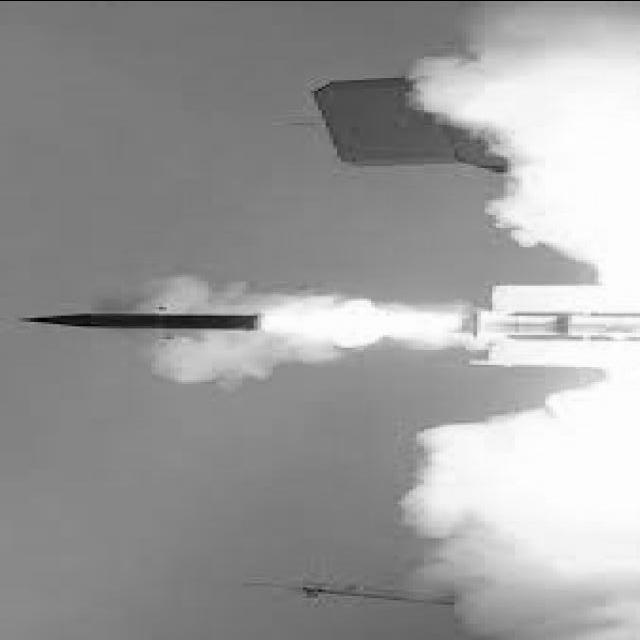Missile: (291, 574, 475, 618), (9, 307, 269, 335)
